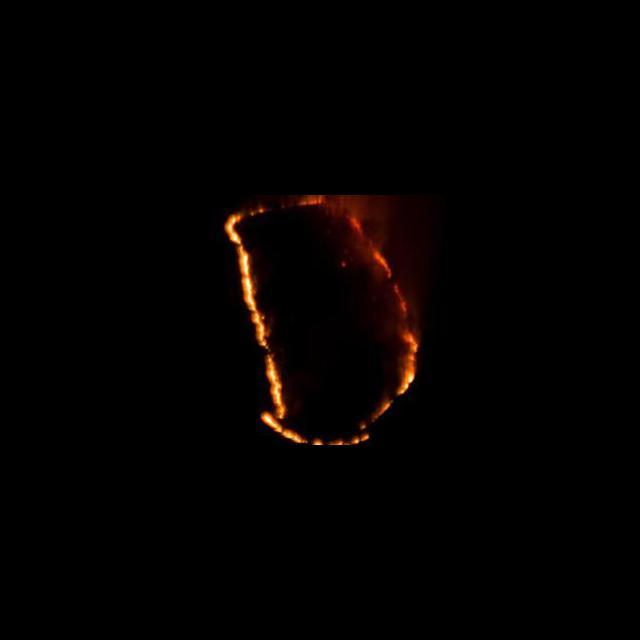Fire: (221, 196, 421, 445)
